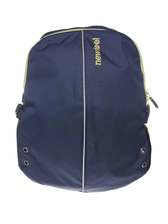bag: (12, 26, 160, 195)
